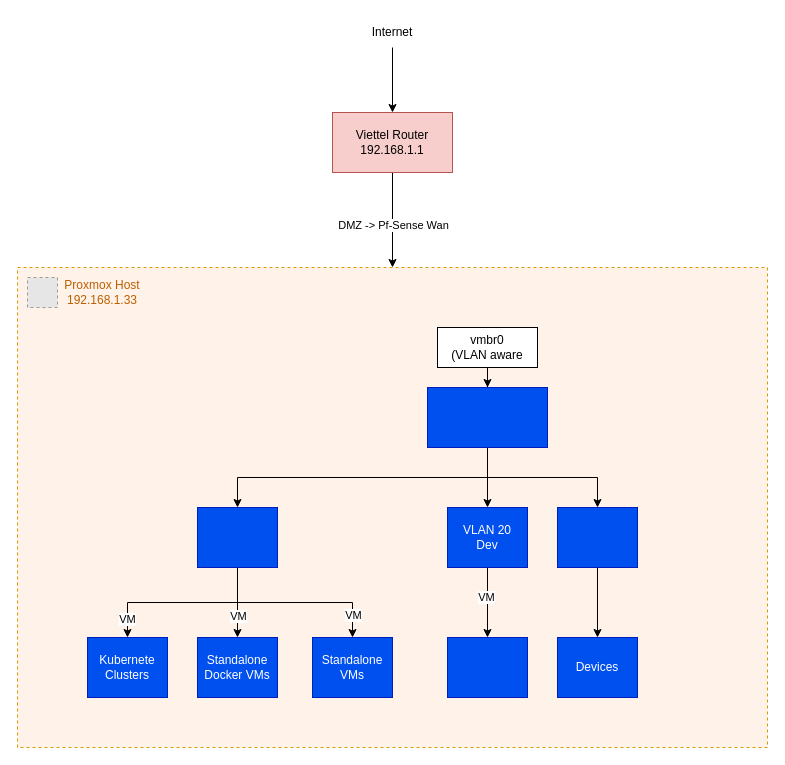
Image size: 785x765. Some labels were removed from this diagram. Grey dashed boxes stand in for pictures. The centre of each missing label's shape, as x and y in pixels:
"Linux Desktop (Dev )" goes at point 487,667.
"Pf-Sense (VM)" goes at point 487,417.
"VLAN 10 Servers" goes at point 237,537.
"VLAN 30 IoT" goes at point 597,537.
